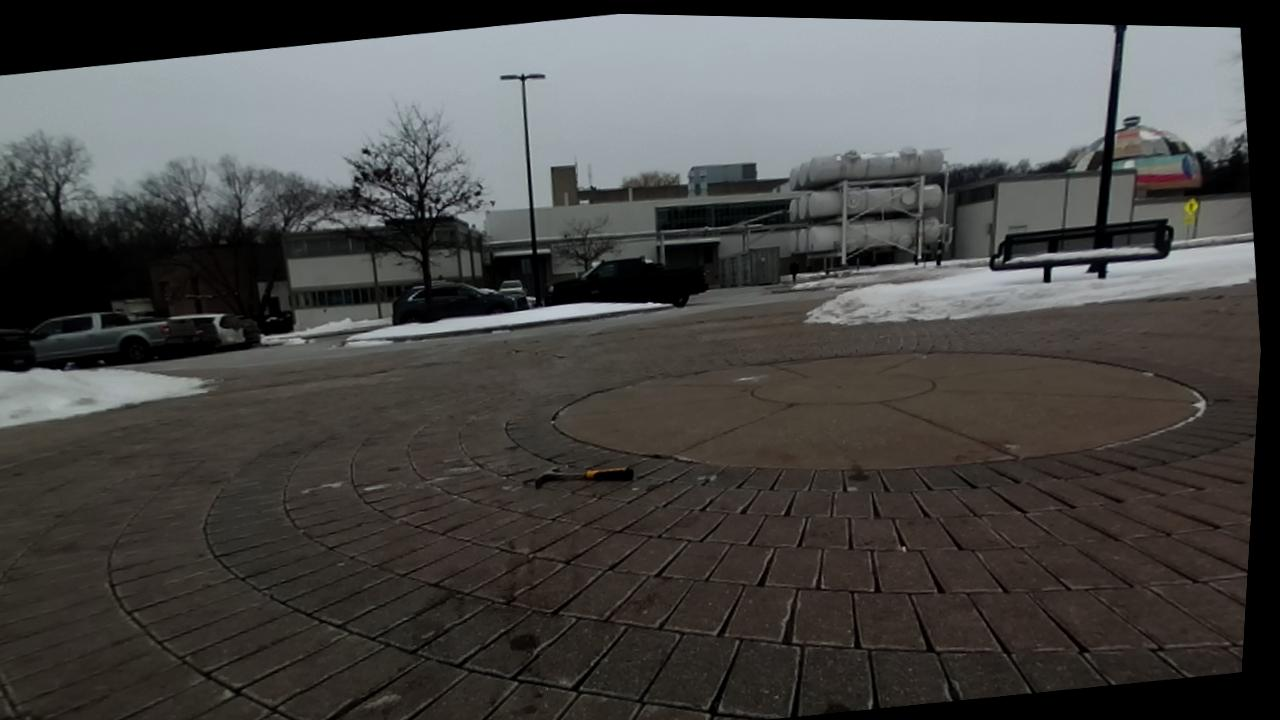pick: (534, 466, 634, 488)
